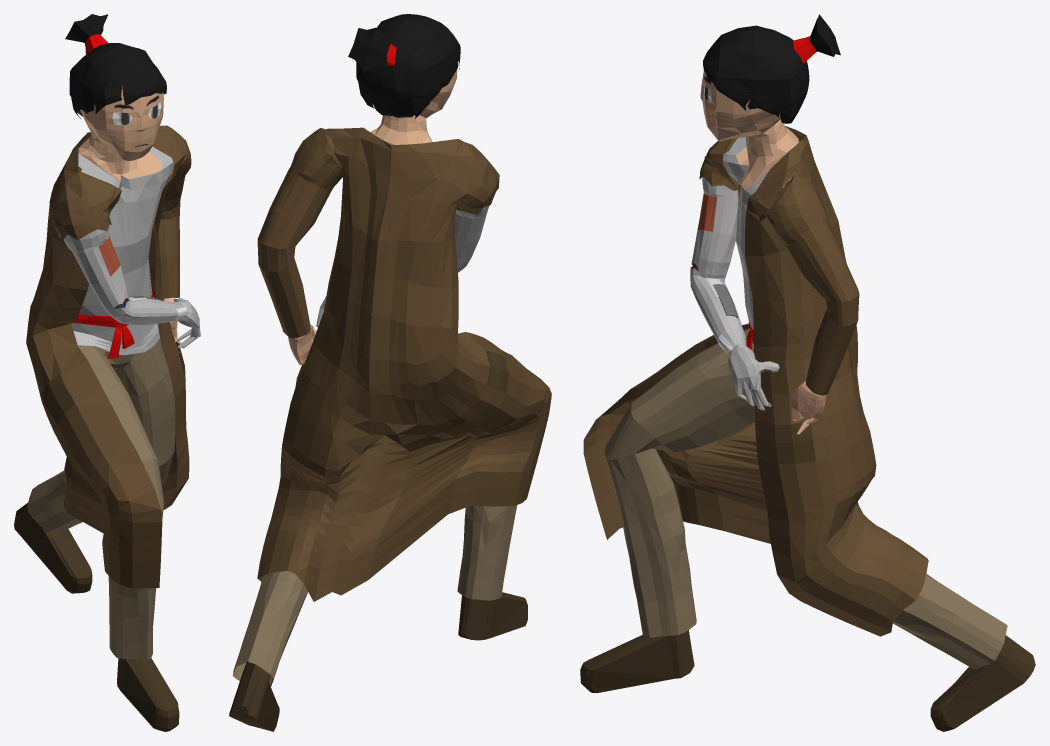
File: One_DF_000004.obj
The picture shows the model from 3 angles, left to right: view 1: azimuth 30°, elevation 25°; view 2: azimuth 150°, elevation 25°; view 3: azimuth 270°, elevation 25°; orthographic projection. The views are drawn at different scales.
Visible parts, largest first — view 1: Hair_Cube.004; view 2: Hair_Cube.004; view 3: Hair_Cube.004.
Boxes of the visible parts, x1,y1,x2,y2 form: Hair_Cube.004: (14, 14, 200, 731); Hair_Cube.004: (229, 14, 551, 731); Hair_Cube.004: (580, 14, 1035, 731).
Bounding box in the file's own units: 1.07 × 3.6 × 2.17.
